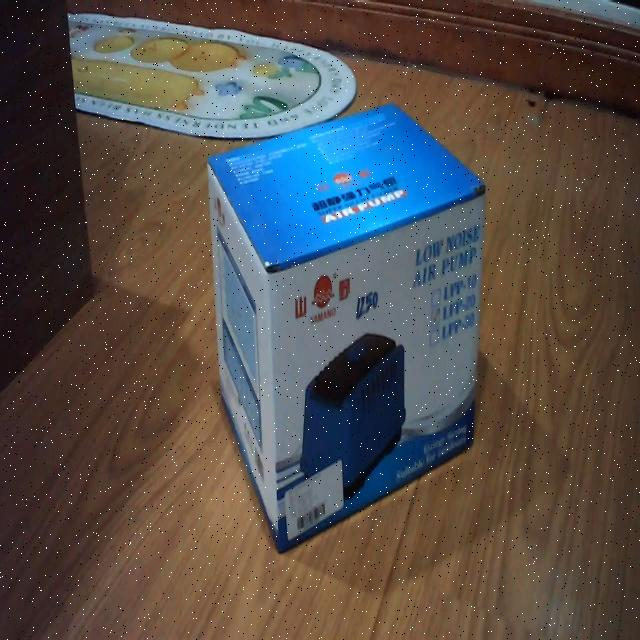YAMANO_LPP_20: (204, 94, 498, 570)
